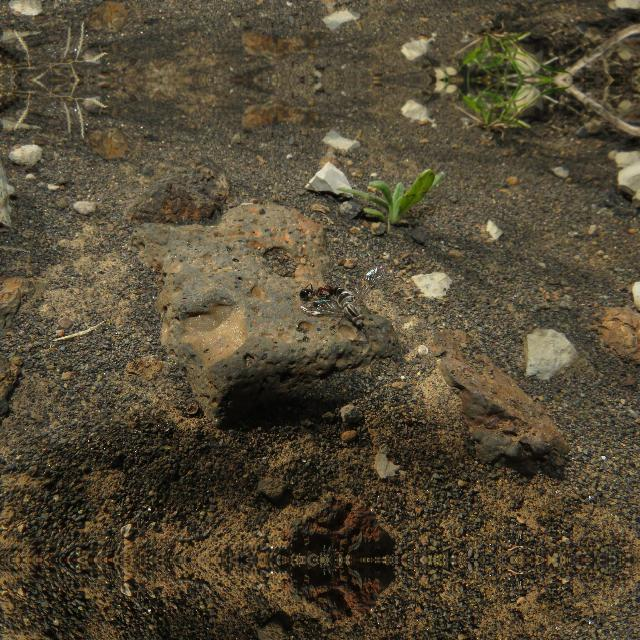Messor: (290, 277, 334, 307)
